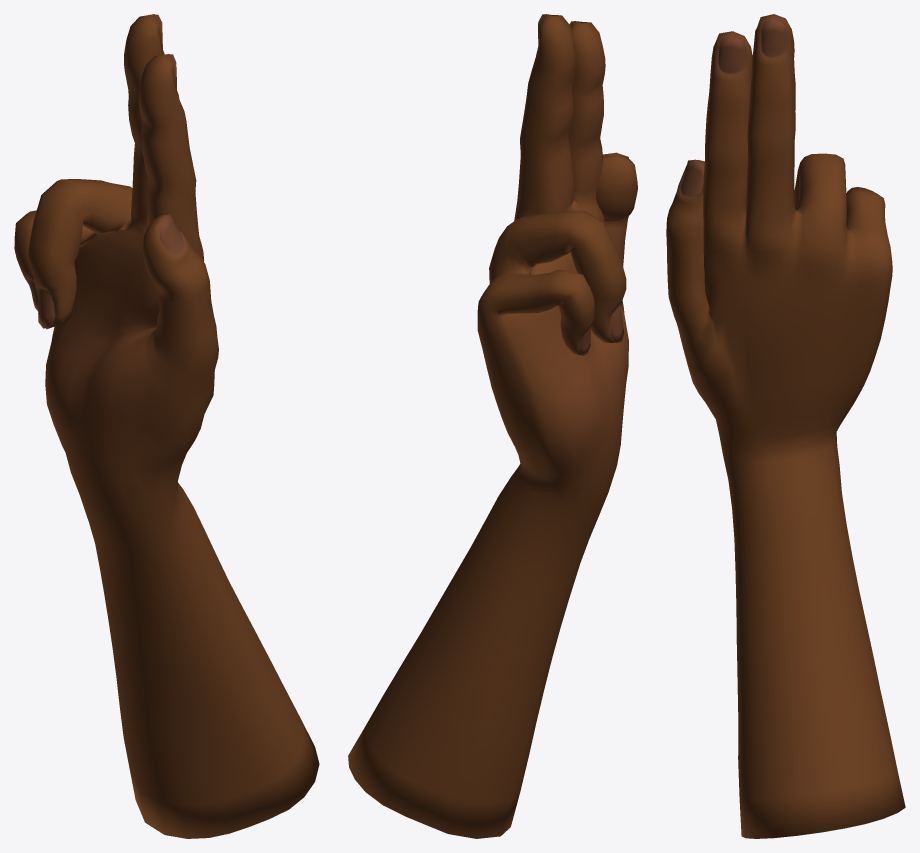
File: HAND.fbx
3 views of the same model, side by side, from view 1: azimuth 30°, elevation 25°; view 2: azimuth 150°, elevation 25°; view 3: azimuth 270°, elevation 25° (orthographic). The views are drawn at different scales.
Parts seen in each view (by area): view 1: hand.001; view 2: hand.001; view 3: hand.001.
Boxes of the visible parts, <box> form: hand.001: <box>14,14,319,838</box>; hand.001: <box>348,14,637,838</box>; hand.001: <box>666,14,905,838</box>.
Size of the model in its own units: 11.4 by 33.38 by 9.19.
